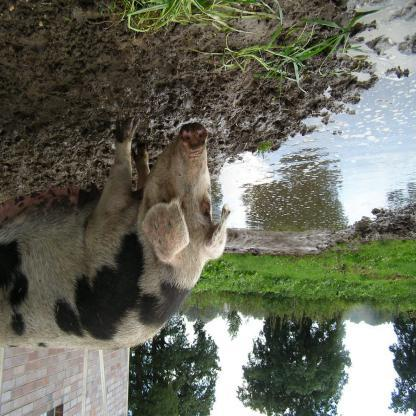boar: (0, 117, 231, 351)
